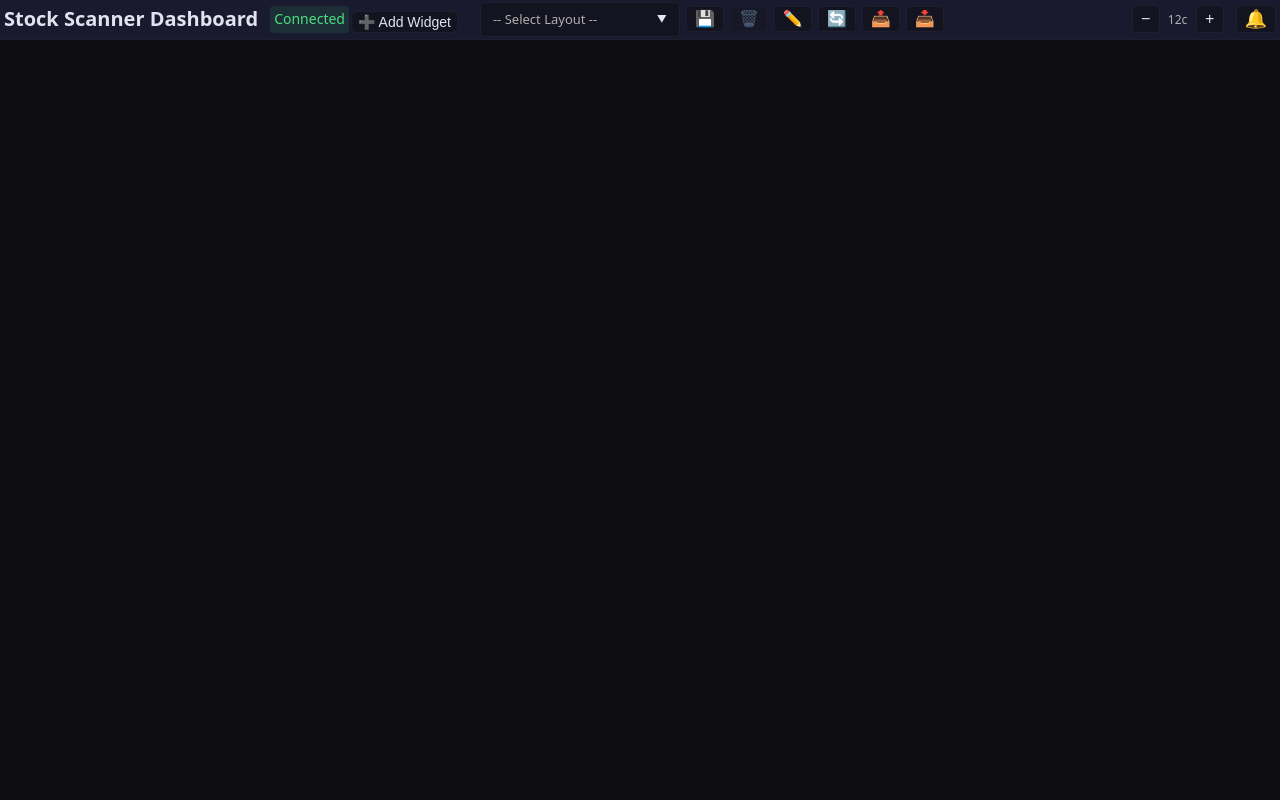
Scenario: formatDate › with null timestamp expect N/A in preview metadata
# Act — open dropdown and click preview button
Click the element with class "select-trigger". click: (580, 19)
box: [480,2,680,37]
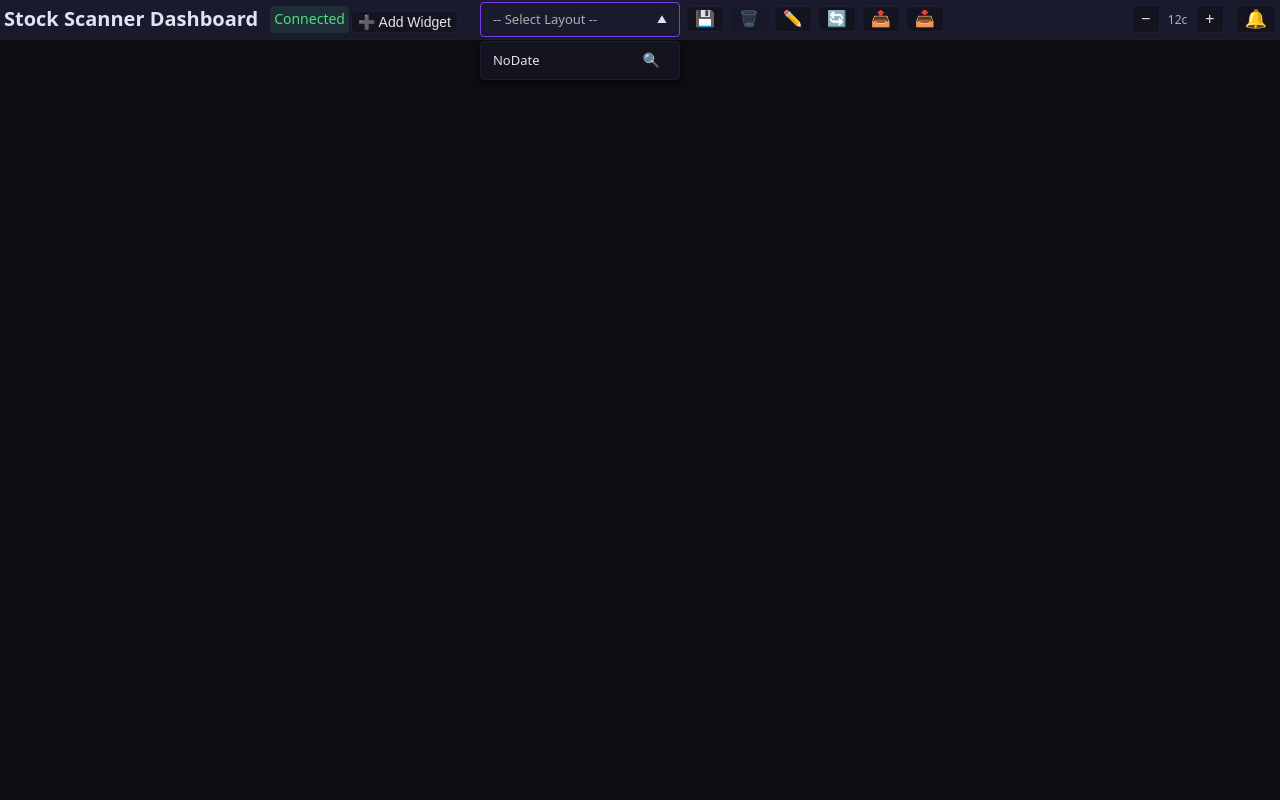
Click the button with class "option-preview-btn". click: (651, 60)
box: [636,50,667,70]
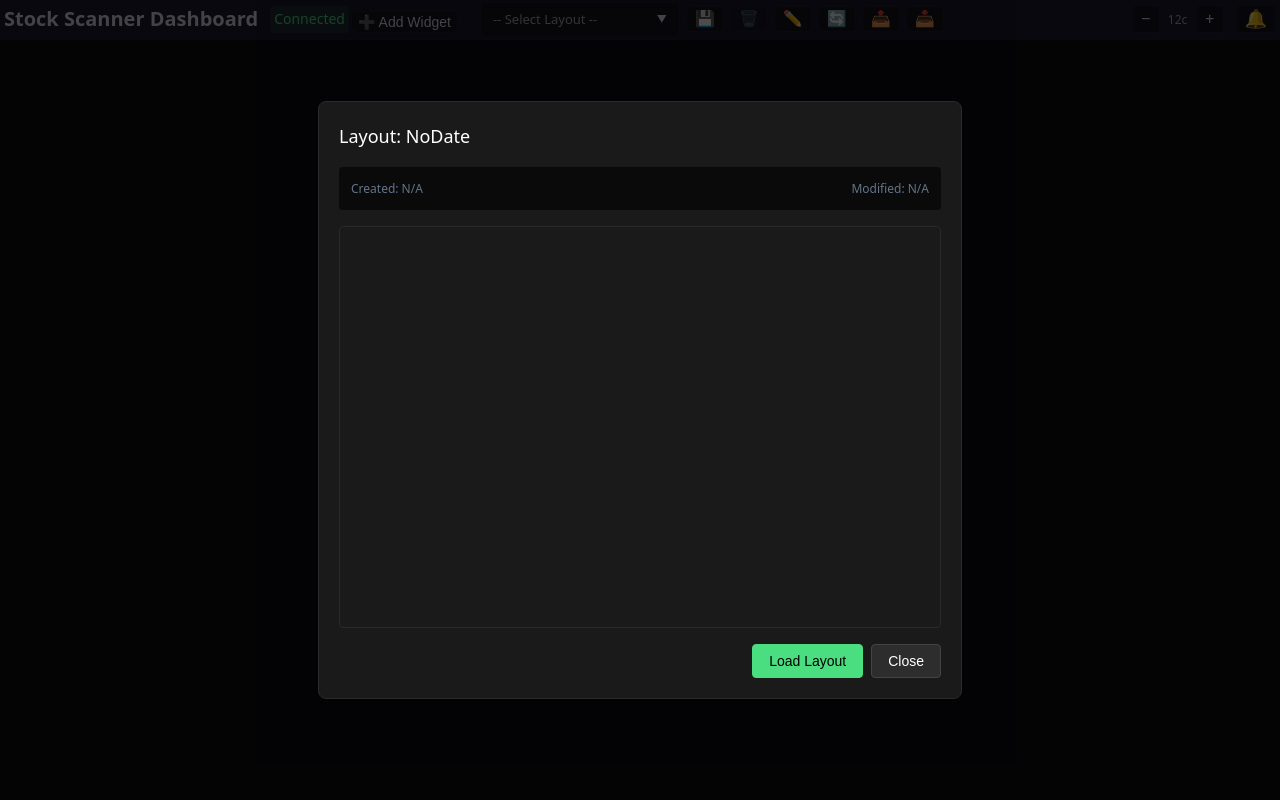
Check: the element showing "Created: N/A Modified: N/A" is shown, box [339,167,941,210]
